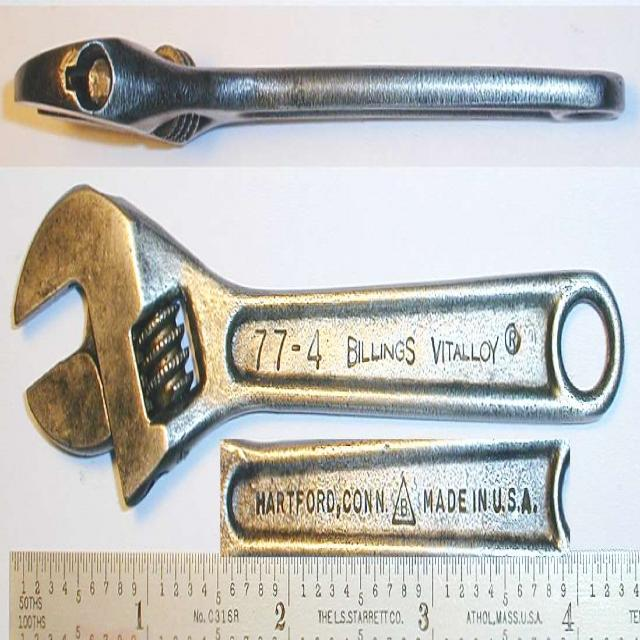Wrench: (11, 177, 628, 518), (12, 24, 625, 150)
